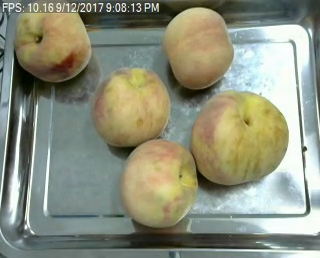Peach: (190, 89, 289, 187), (120, 138, 197, 228), (91, 65, 171, 148), (14, 1, 93, 82), (163, 7, 234, 89)
